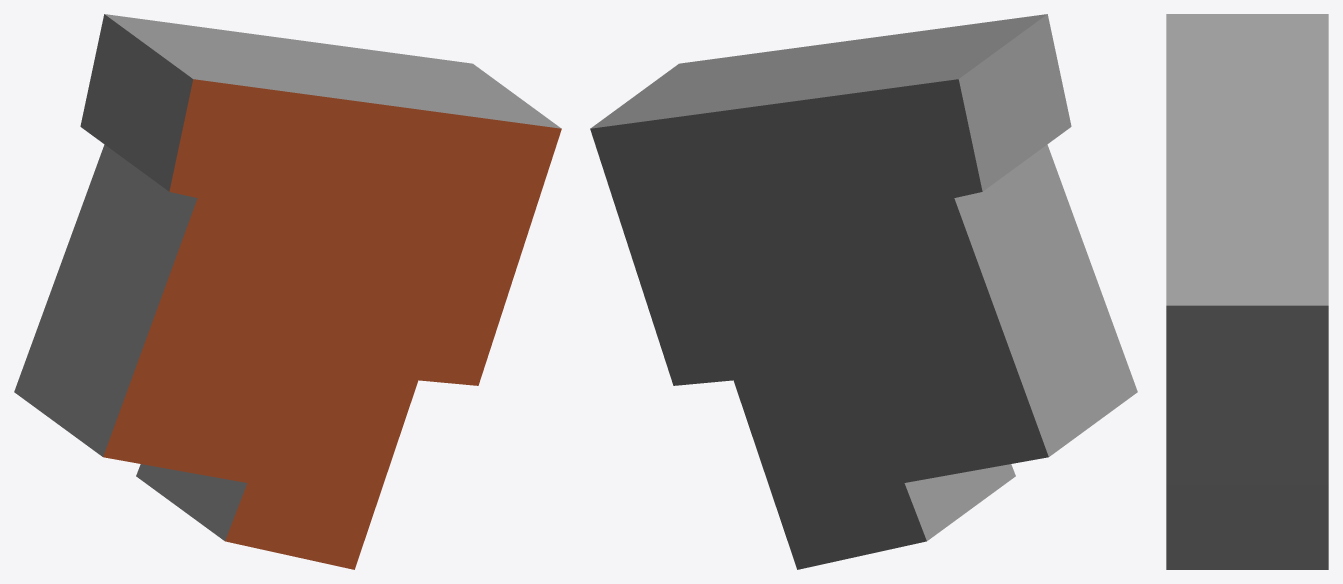
File: construction_5556_assumed_A_Casa_h6m.obj
The picture shows the model from 3 angles, left to right: view 1: azimuth 30°, elevation 25°; view 2: azimuth 150°, elevation 25°; view 3: azimuth 270°, elevation 25°; orthographic projection. The views are drawn at different scales.
Visible parts, largest first — view 1: construction_5556_assumed_A_Casa; view 2: construction_5556_assumed_A_Casa; view 3: construction_5556_assumed_A_Casa.
Part boxes in pixels (x1,y1,x2,y2): construction_5556_assumed_A_Casa: (14,14,561,569); construction_5556_assumed_A_Casa: (590,14,1137,569); construction_5556_assumed_A_Casa: (1166,14,1328,569).
Size of the model in its own units: 17.86 by 19.72 by 6.
